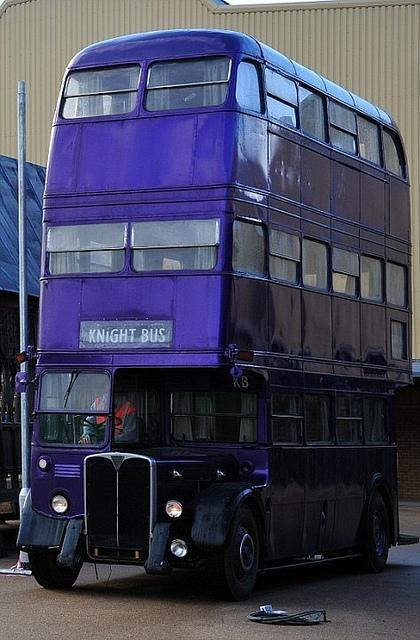bus: (28, 30, 411, 606)
